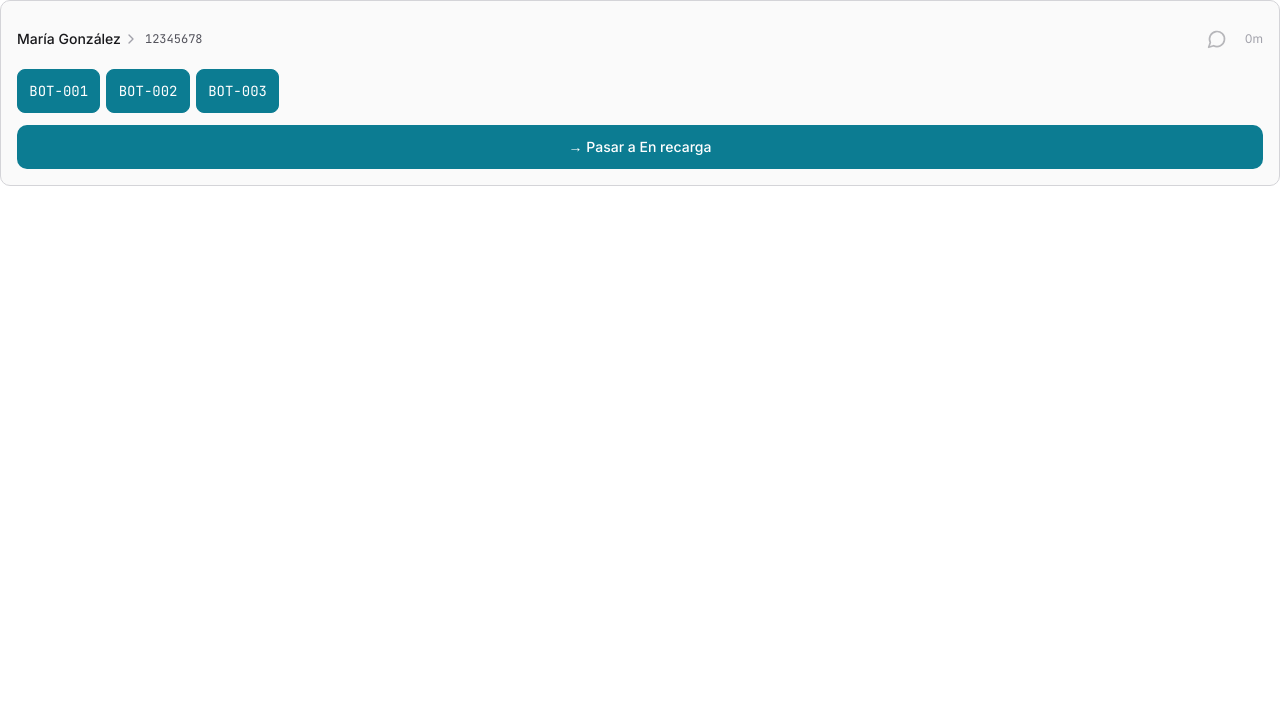
Undo flow — REQ-COS-19 (Slice C) › undo restores estado AND the original estado_desde via p_restaurar (S2)
This screenshot has width=1280, height=720.
Click the button "→ Pasar a En recarga".
click(640, 147)  # box [17,125,1263,169]
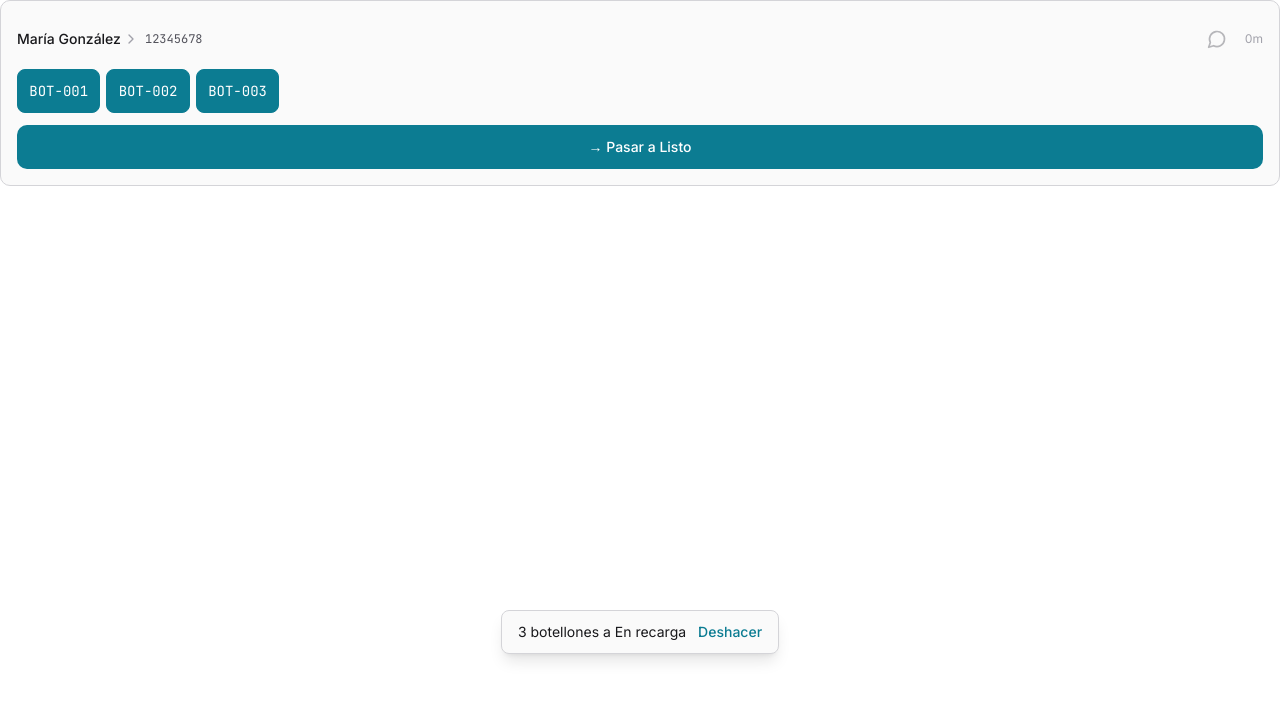
Check: the button "→ Pasar a Listo" is shown, box [17,125,1263,169]
Click the button "Deshacer".
click(730, 632)  # box [698,622,762,642]
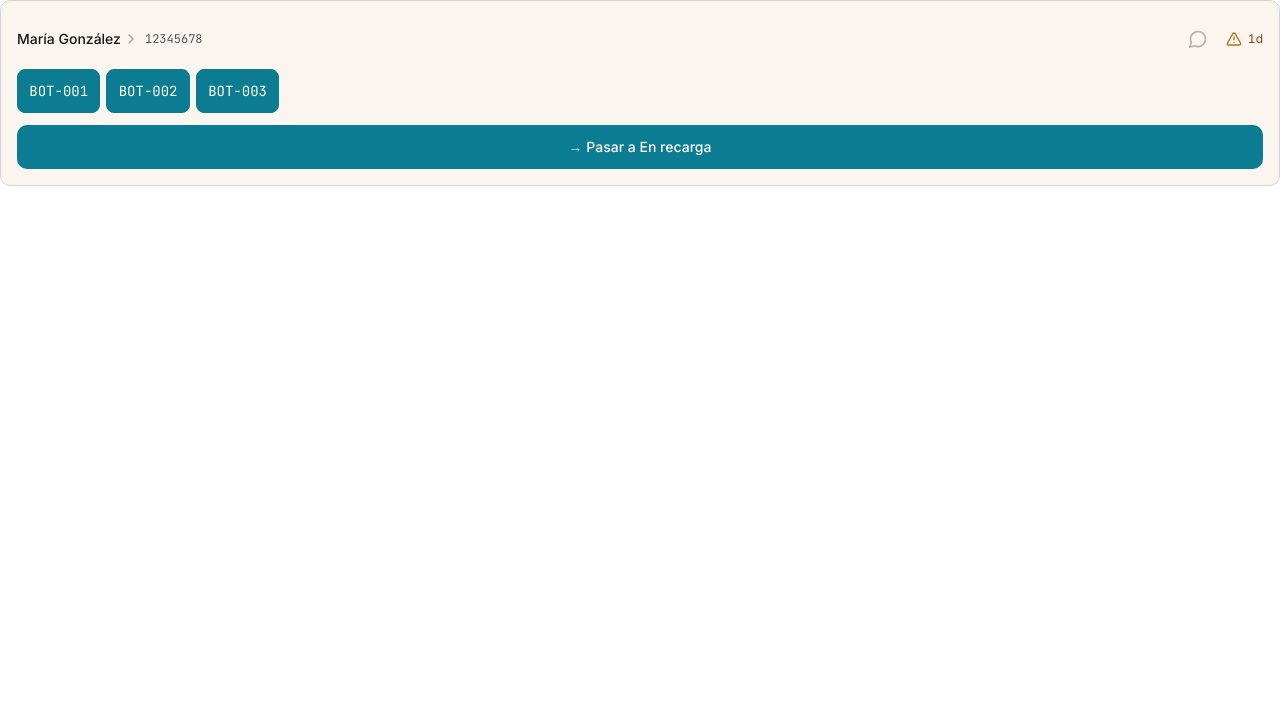
Check: the button "→ Pasar a En recarga" is shown, box [17,125,1263,169]
Check: the text "1d" is shown, box [1248,31,1263,47]
